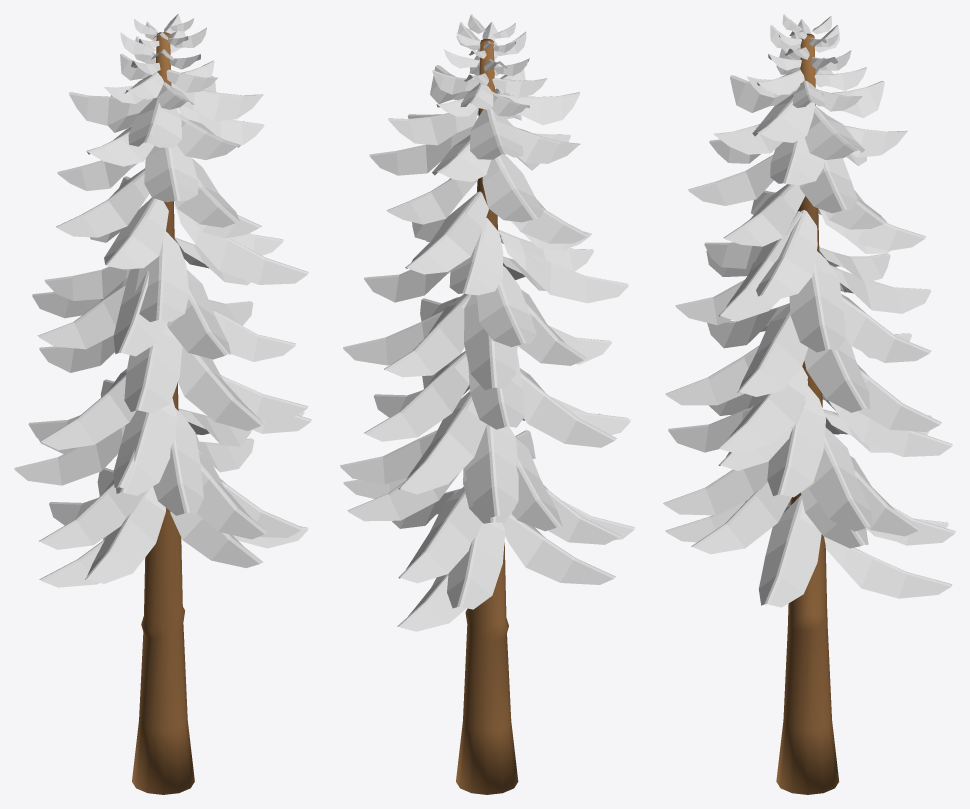
File: Tree_01.glb
3 renders of one model, left to right at view 1: azimuth 30°, elevation 25°; view 2: azimuth 150°, elevation 25°; view 3: azimuth 270°, elevation 25°, orthographic.
Visible parts, largest first — view 1: Cylinder.091, Cylinder.086; view 2: Cylinder.091, Cylinder.086; view 3: Cylinder.091, Cylinder.086.
Boxes of the visible parts, bbox=[...] form: Cylinder.091: bbox=[14, 14, 311, 587]; Cylinder.086: bbox=[132, 32, 194, 794]; Cylinder.091: bbox=[340, 14, 634, 631]; Cylinder.086: bbox=[456, 39, 518, 794]; Cylinder.091: bbox=[663, 14, 955, 607]; Cylinder.086: bbox=[776, 33, 839, 794].
Bounding box in the file's own units: 5.37 × 15.32 × 5.33.
